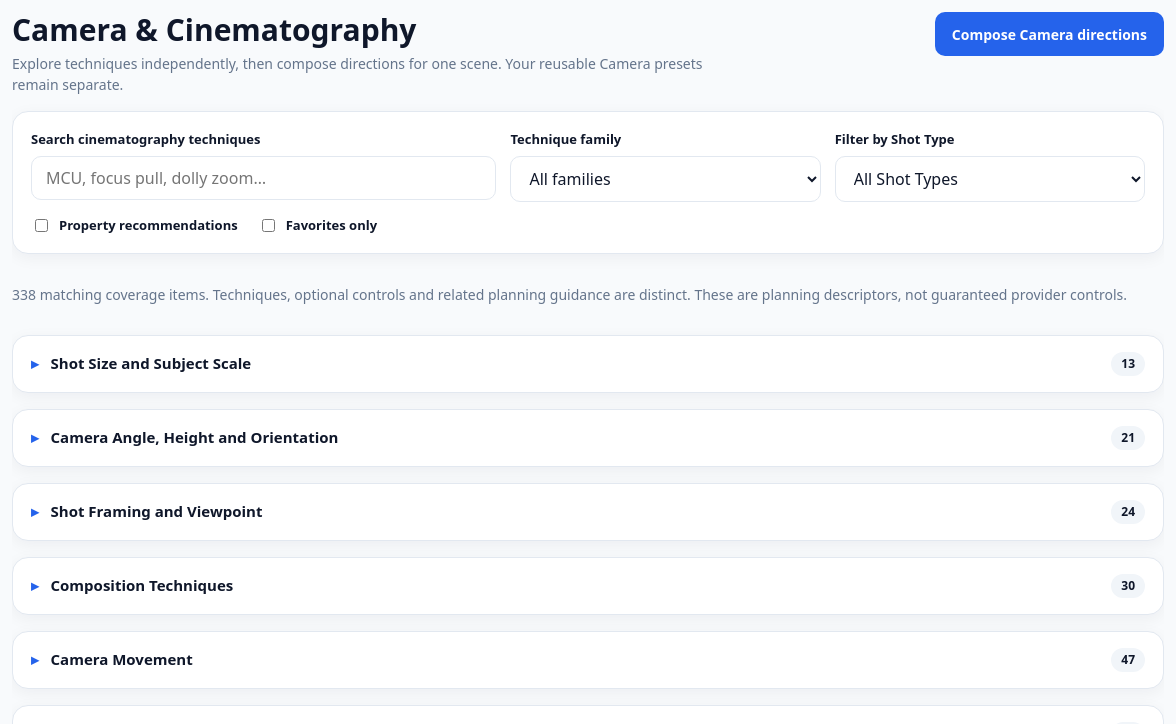
Test: cinematography explorer › supports deliberate favorite actions and a favorites filter with no automatic library writes
Type "MCU" into the search field labelled "Search cinematography techniques" at coordinates (264, 178), box [31, 156, 496, 200]
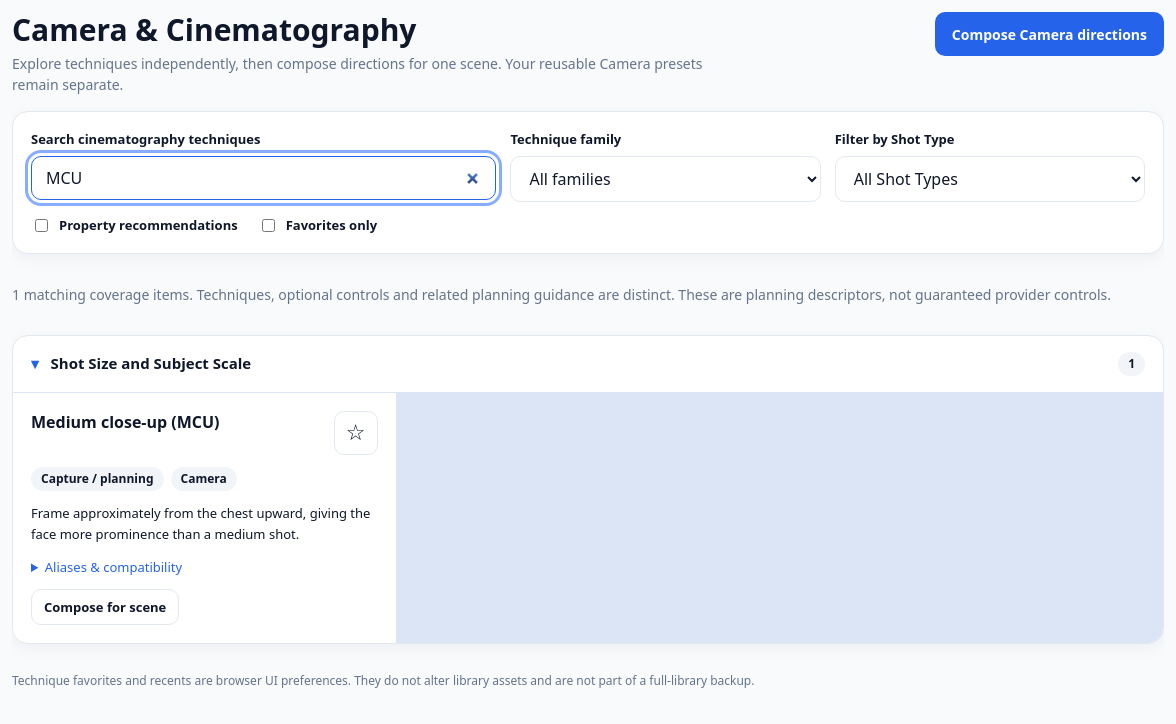
Click the button named "Favorite Medium close-up (MCU)" at coordinates (356, 433), box [334, 411, 378, 455]
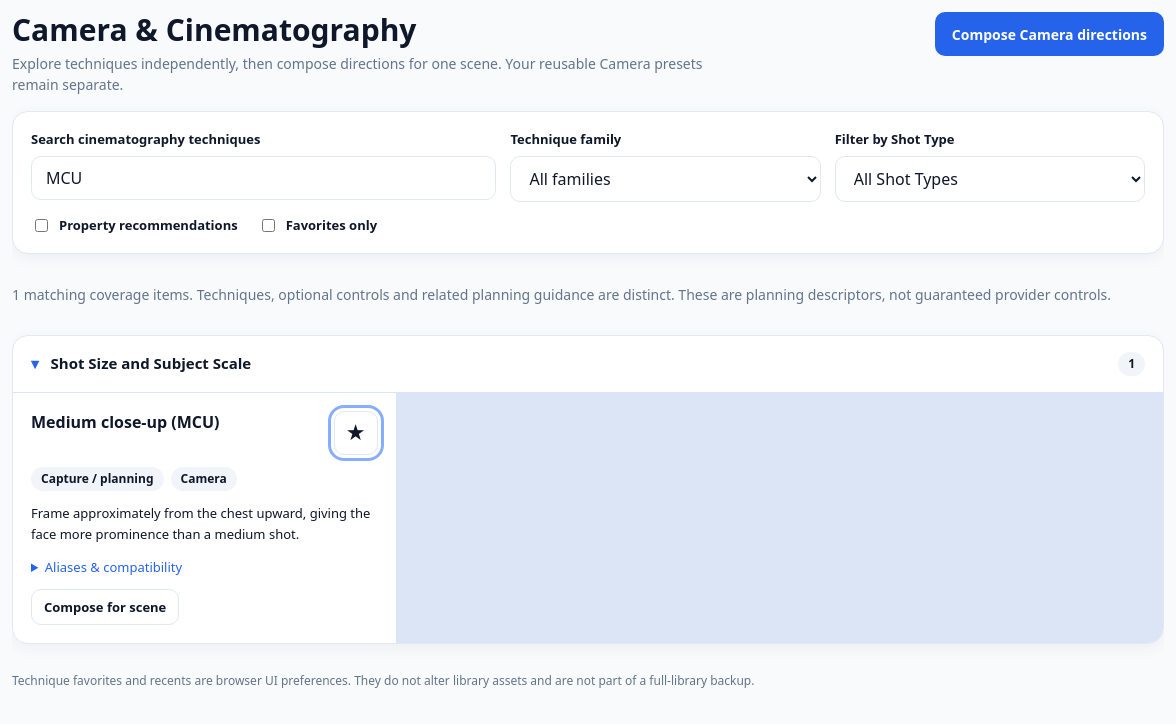
Check: the button named "Unfavorite Medium close-up (MCU)" is pressed, box [334, 411, 378, 455]
Clear the search field labelled "Search cinematography techniques" at coordinates (264, 178), box [31, 156, 496, 200]
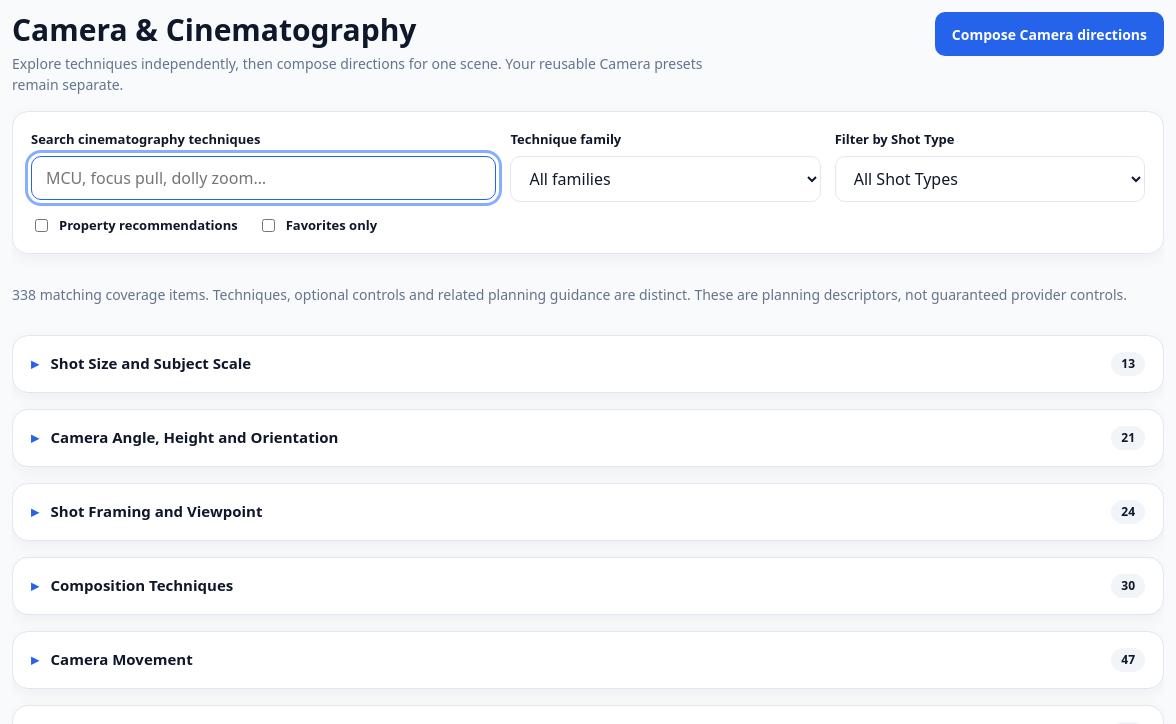
Click the checkbox labelled "Favorites only" at coordinates (268, 225), box [262, 219, 275, 232]
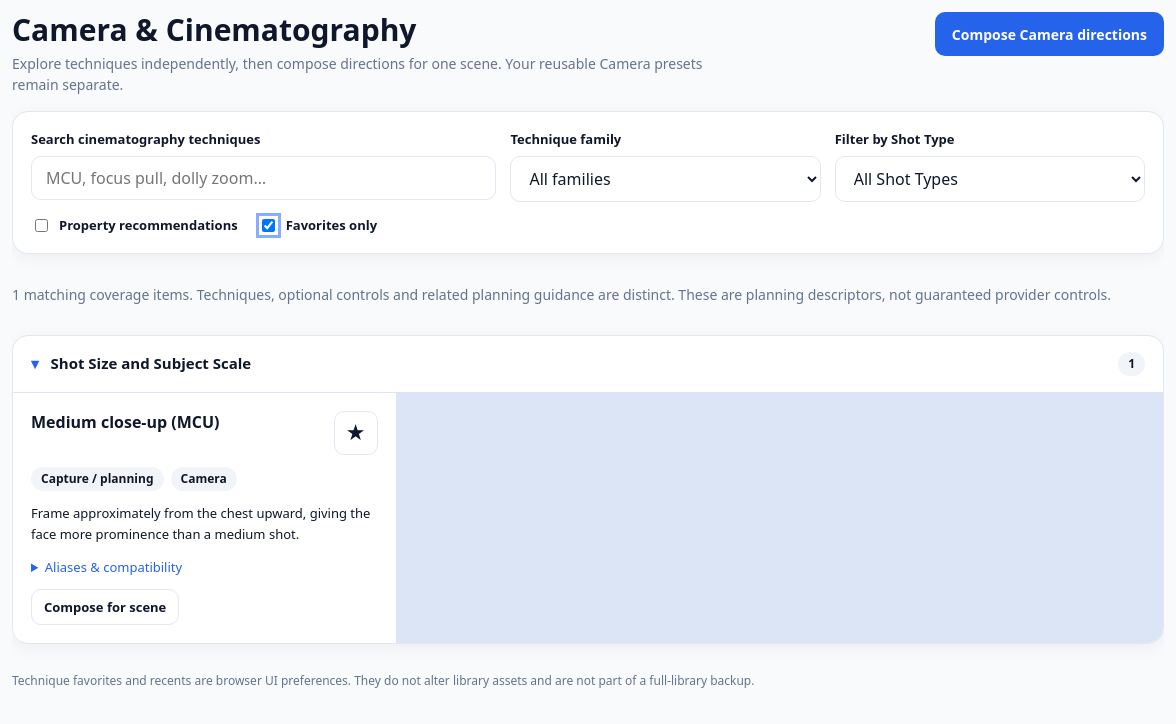
Check: the heading "Medium close-up (MCU)" is shown, box [31, 411, 220, 433]
